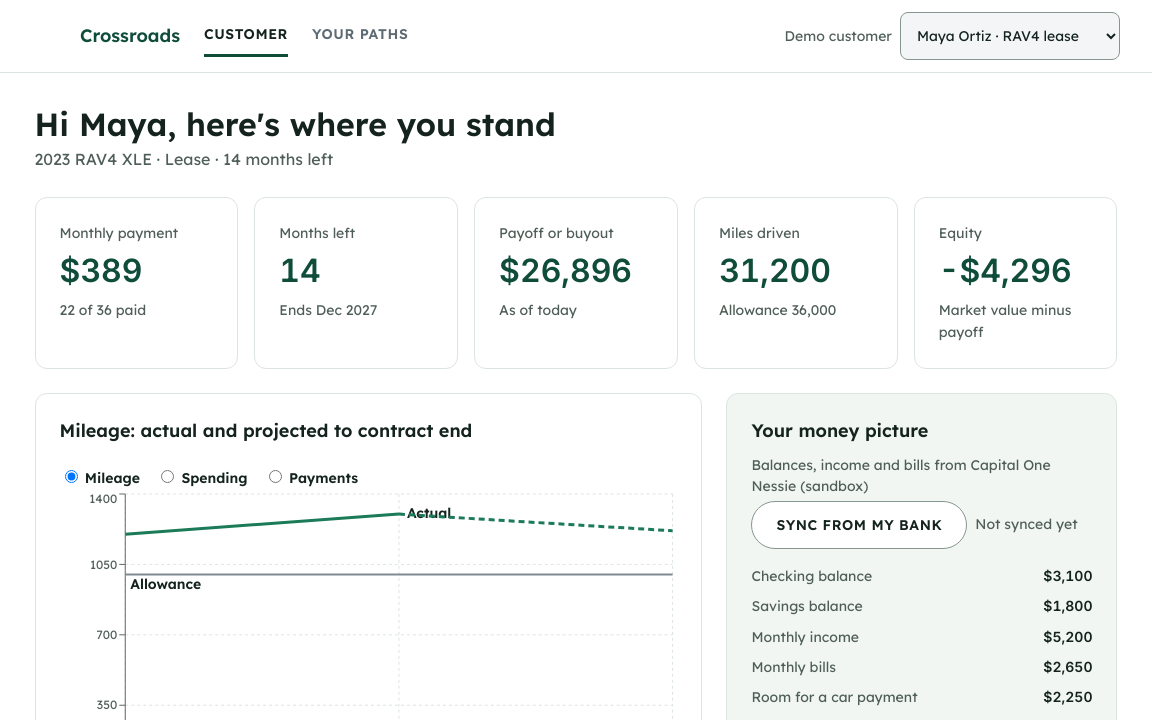
Scenario: Customer overview › shows a readable error for spending that fails
The image size is (1152, 720).
Expected: the heading "Hi Maya, here's where you stand" is shown, [34,104,556,144]
Click the radio button labelled "Spending". click: point(168, 476)
box: [161,470,174,483]
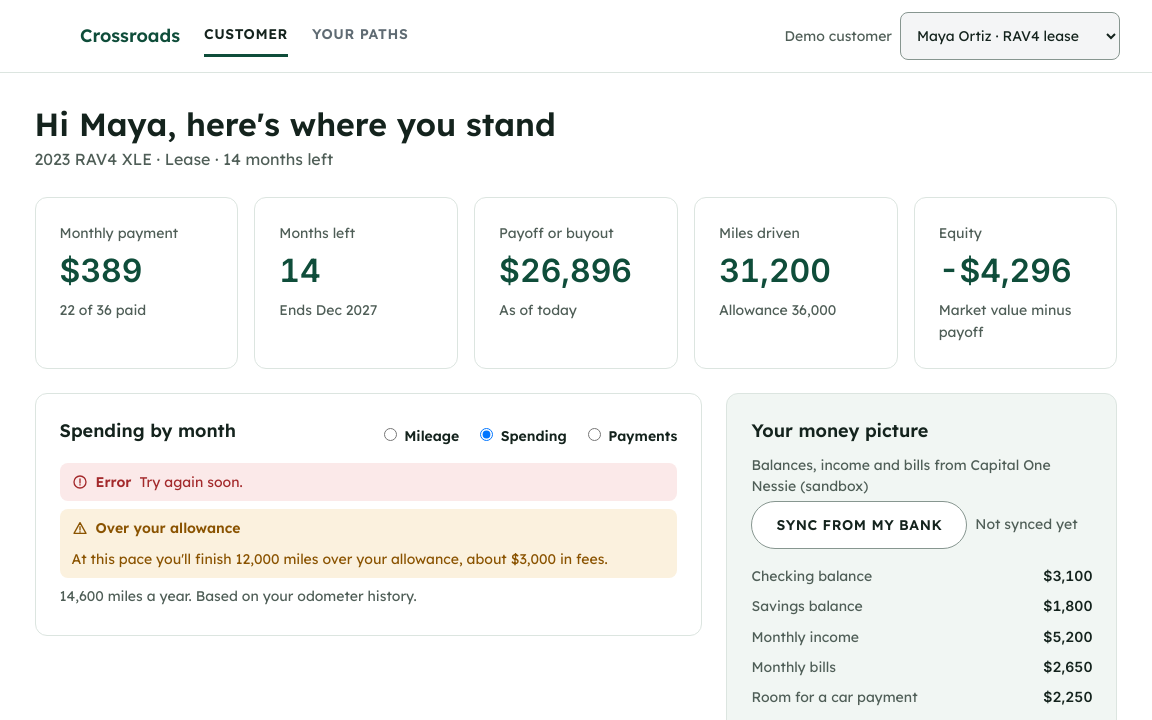
Result: the message shows "Try again soon." at [139,473,243,491]
